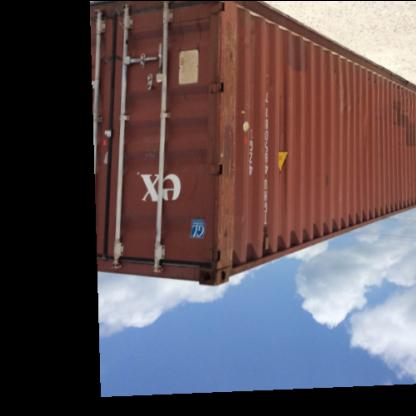Damage: (202, 8, 240, 288)
